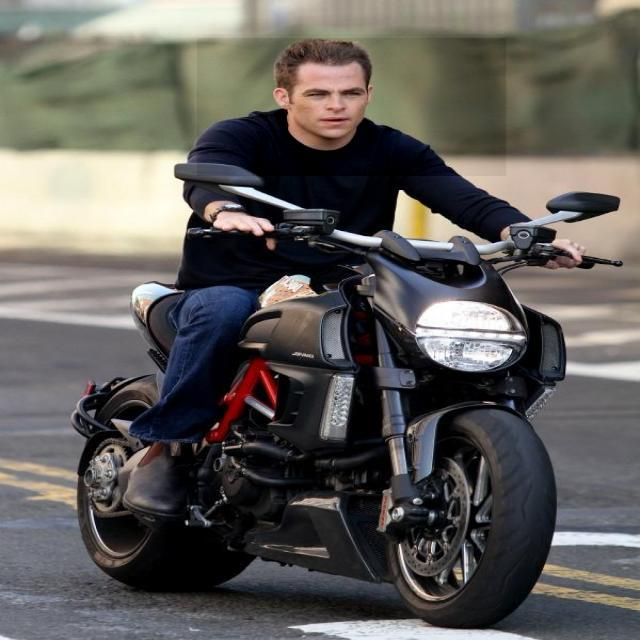No_Helmet: (197, 38, 506, 176)
